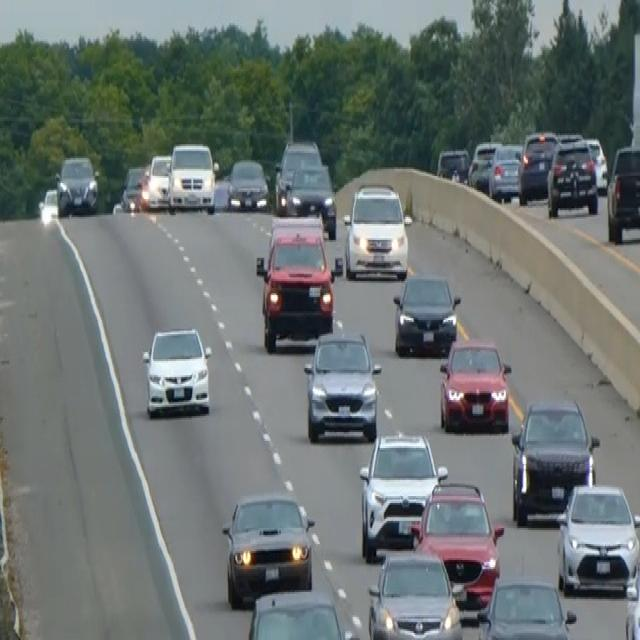car: (410, 478, 504, 606), (510, 395, 599, 526), (358, 430, 447, 560), (221, 491, 315, 608), (556, 480, 639, 596), (303, 327, 381, 443), (367, 548, 463, 638), (438, 338, 512, 434), (141, 323, 211, 418), (343, 181, 409, 281), (476, 574, 577, 638), (392, 272, 461, 357), (245, 587, 360, 638), (546, 135, 598, 217), (284, 160, 337, 238), (274, 137, 321, 211), (606, 142, 639, 242), (517, 128, 558, 204), (54, 153, 99, 215), (226, 156, 269, 212), (488, 142, 523, 201), (467, 139, 501, 190), (624, 542, 639, 638), (145, 153, 171, 208), (583, 135, 608, 192), (120, 164, 147, 212), (436, 146, 469, 183), (37, 187, 59, 226)
jeep: (254, 212, 337, 352)
minivan: (166, 139, 218, 213)
